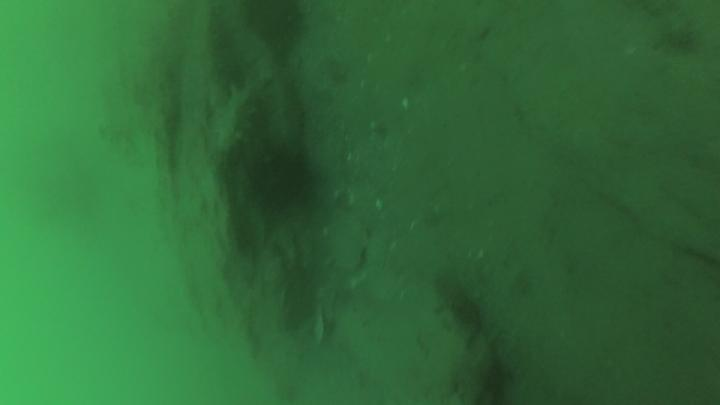echinus: (232, 136, 324, 227)
